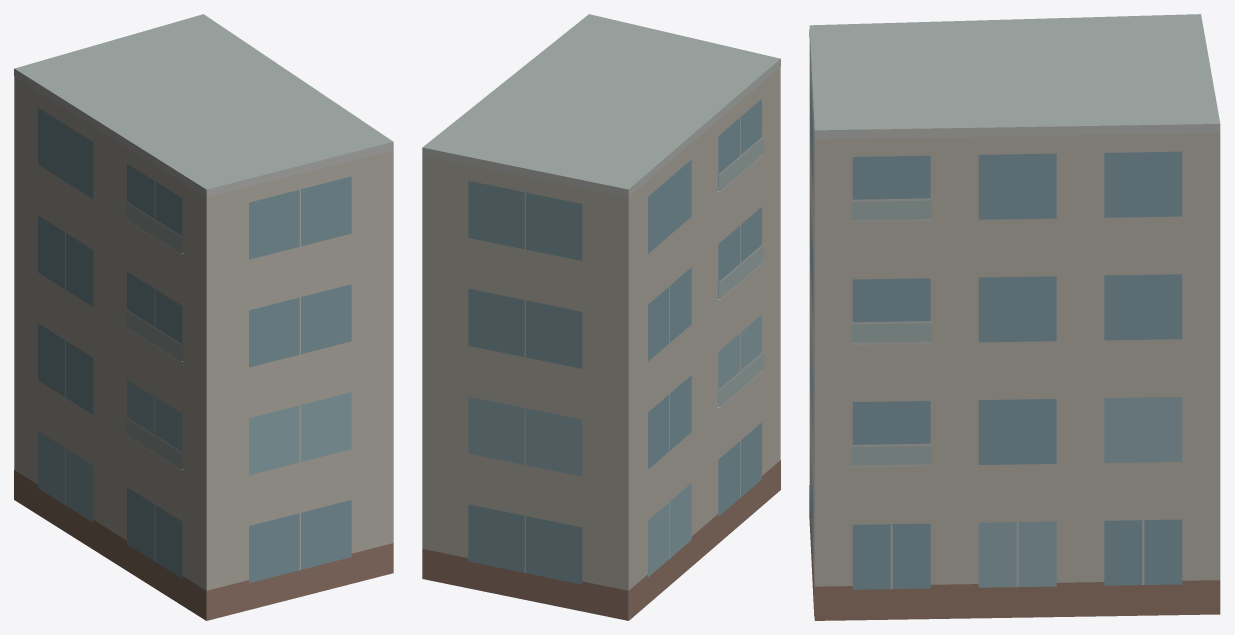
File: survey-upis-32474075.glb
The picture shows the model from 3 angles, left to right: view 1: azimuth 30°, elevation 25°; view 2: azimuth 150°, elevation 25°; view 3: azimuth 270°, elevation 25°; orthographic projection. The views are drawn at different scales.
Parts seen in each view (by area): view 1: survey-upis-32474075.tmp; view 2: survey-upis-32474075.tmp; view 3: survey-upis-32474075.tmp.
Boxes of the visible parts, bbox=[...] form: survey-upis-32474075.tmp: bbox=[14, 14, 393, 620]; survey-upis-32474075.tmp: bbox=[422, 14, 780, 620]; survey-upis-32474075.tmp: bbox=[809, 14, 1220, 620].
Size of the model in its own units: 6.77 by 13.3 by 10.11.
